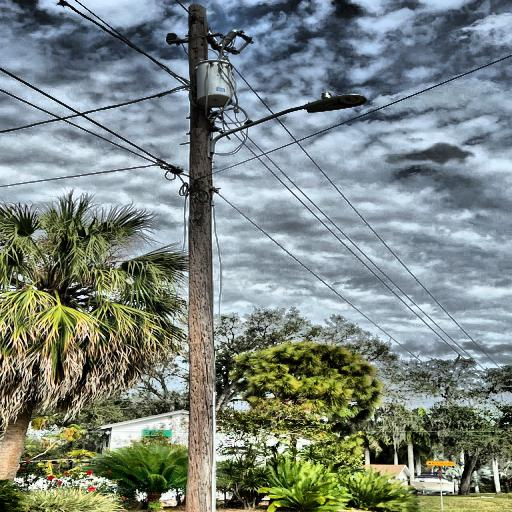pole: (157, 0, 230, 512)
street light: (204, 92, 370, 161)
transformer: (191, 57, 235, 109)
